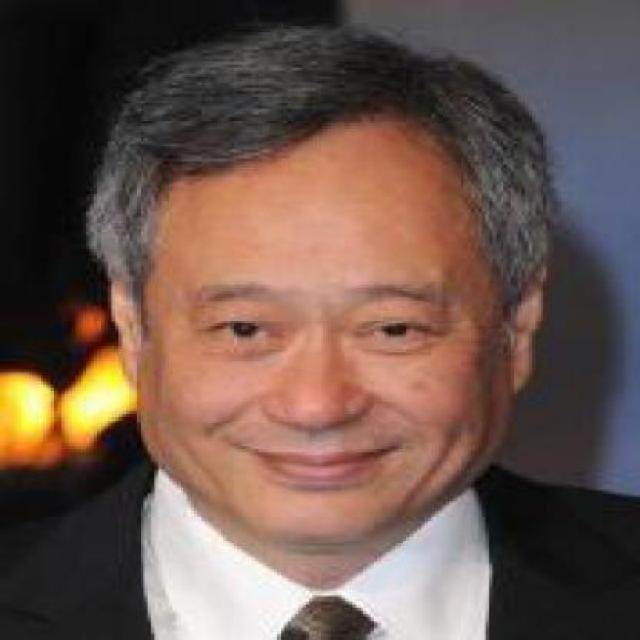closed-mouth: (236, 440, 409, 498)
